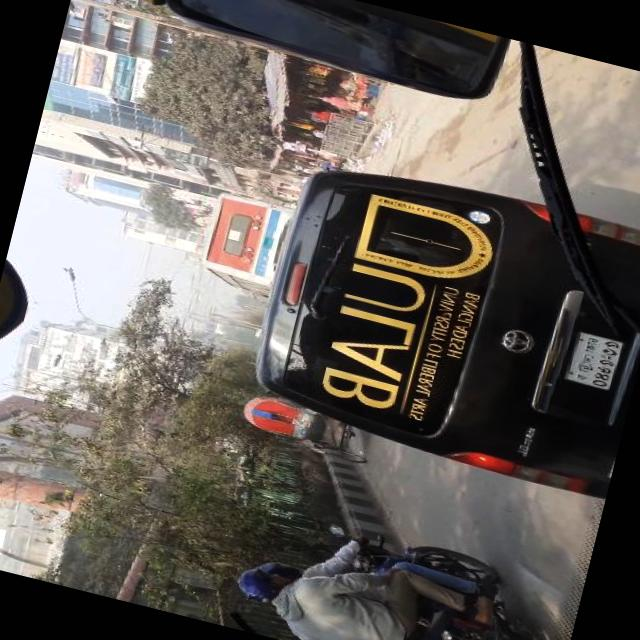bus: (108, 500, 235, 620), (190, 187, 294, 298)
motorcycle: (218, 494, 582, 640), (236, 381, 377, 464)
truck: (238, 141, 640, 498)
